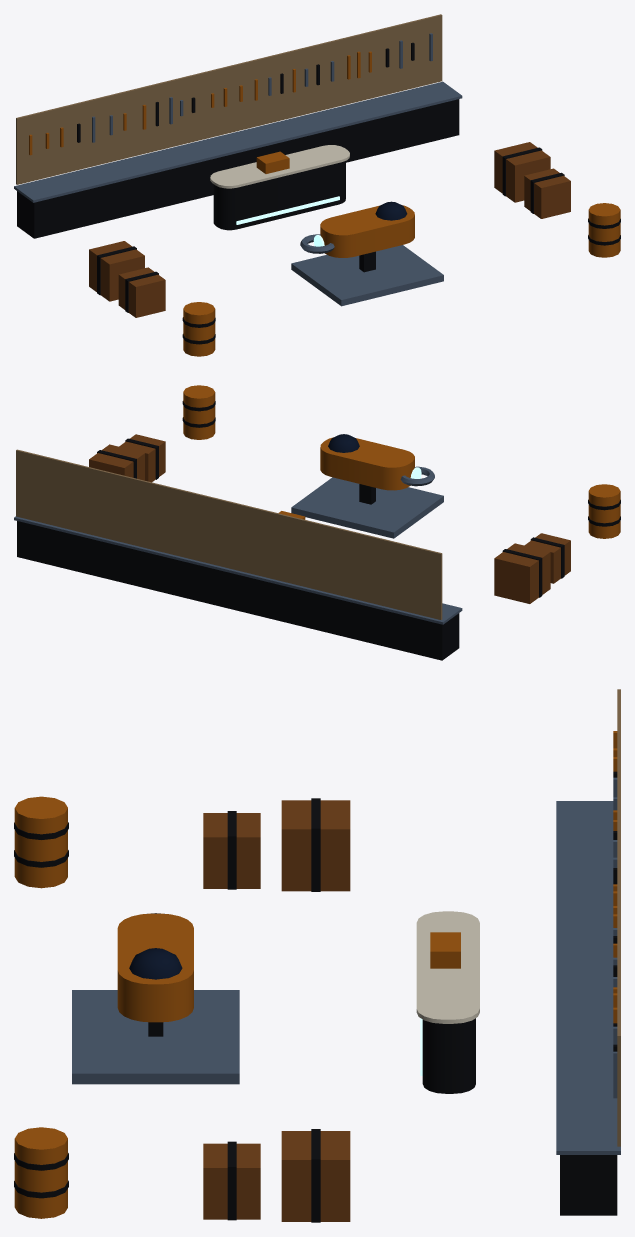
File: fit_workshop_3.glb
3 renders of one model, top to bottom at view 1: azimuth 30°, elevation 25°; view 2: azimuth 150°, elevation 25°; view 3: azimuth 270°, elevation 25°, orthographic. The views are drawn at different scales.
Visible parts, largest first — view 1: fit_workshop_3; view 2: fit_workshop_3; view 3: fit_workshop_3.
Boxes of the visible parts, <box> form: fit_workshop_3: <box>14,14,620,356</box>; fit_workshop_3: <box>14,385,620,660</box>; fit_workshop_3: <box>14,689,620,1222</box>.
Bounding box in the file's own units: 11.2 × 2.6 × 7.96.
